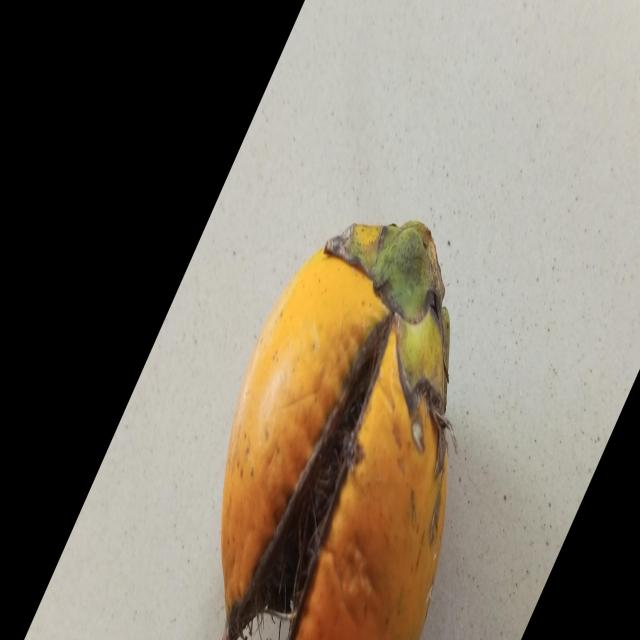damaged: (220, 223, 450, 640)
